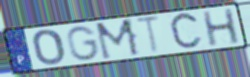C: (168, 10, 205, 53)
G: (65, 25, 102, 63)
H: (201, 7, 242, 48)
M: (93, 17, 142, 62)
O: (31, 28, 67, 67)
T: (134, 15, 163, 56)
